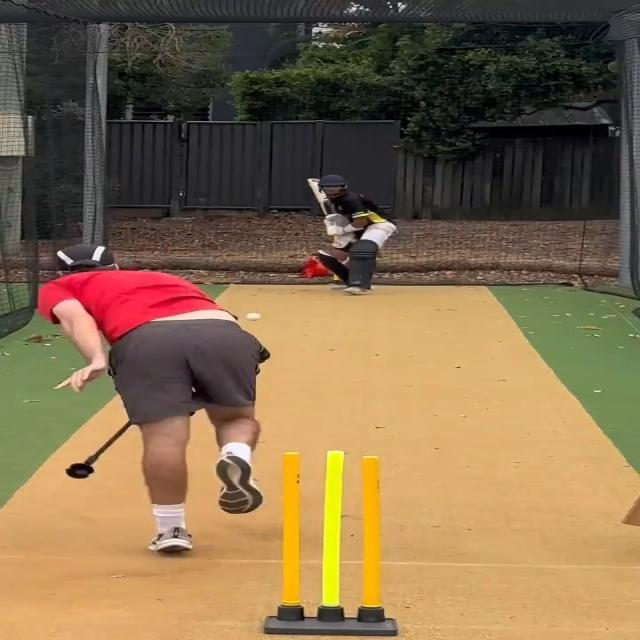ball: (244, 311, 263, 322)
stump: (263, 450, 400, 637)
